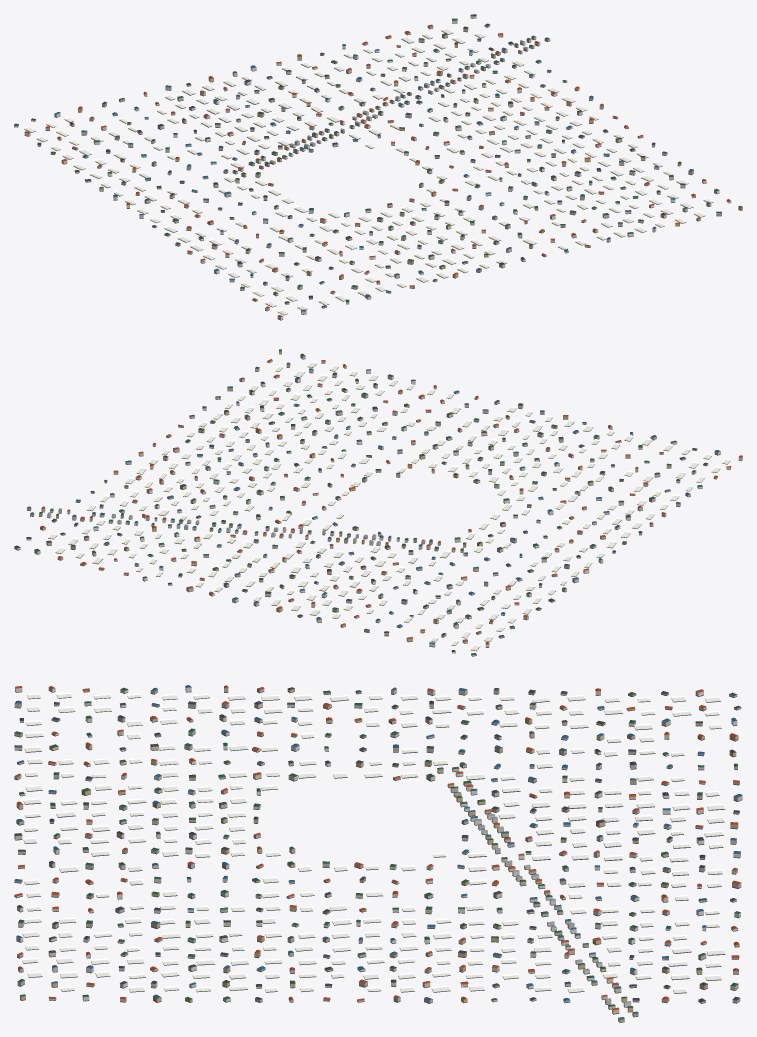
The model's file is buildings_T_W08_N06.glb.
3 views of the same model, one above another, from view 1: azimuth 30°, elevation 25°; view 2: azimuth 150°, elevation 25°; view 3: azimuth 270°, elevation 25° (orthographic). The views are drawn at different scales.
Visible parts, largest first — view 1: T_W08_N06_roofs_agri_greenhouse_arch, T_W08_N06_slope_seating_foundations, T_W08_N06_walls_wall_modern_warm_white, T_W08_N06_walls_wall_french_ochre_villa, T_W08_N06_walls_wall_pastel_sand_gray, T_W08_N06_walls_wall_dalat_cream_stucco, T_W08_N06_roofs_roof_terracotta_gable, T_W08_N06_roofs_roof_pine_green_hip, T_W08_N06_roofs_roof_slate_French_villa_hip, T_W08_N06_roofs_roof_highland_blue_gable; view 2: T_W08_N06_roofs_agri_greenhouse_arch, T_W08_N06_slope_seating_foundations, T_W08_N06_walls_wall_modern_warm_white, T_W08_N06_walls_wall_french_ochre_villa, T_W08_N06_walls_wall_pastel_sand_gray, T_W08_N06_walls_wall_dalat_cream_stucco, T_W08_N06_roofs_roof_terracotta_gable, T_W08_N06_roofs_roof_pine_green_hip, T_W08_N06_roofs_roof_slate_French_villa_hip, T_W08_N06_roofs_roof_highland_blue_gable; view 3: T_W08_N06_roofs_agri_greenhouse_arch, T_W08_N06_slope_seating_foundations, T_W08_N06_walls_wall_french_ochre_villa, T_W08_N06_walls_wall_modern_warm_white, T_W08_N06_walls_wall_pastel_sand_gray, T_W08_N06_walls_wall_dalat_cream_stucco, T_W08_N06_roofs_roof_terracotta_gable, T_W08_N06_roofs_roof_pine_green_hip, T_W08_N06_roofs_roof_slate_French_villa_hip, T_W08_N06_roofs_roof_highland_blue_gable.
Boxes of the visible parts, x1,y1,x2,y2 form: T_W08_N06_roofs_agri_greenhouse_arch: [24, 28, 713, 314]; T_W08_N06_slope_seating_foundations: [14, 17, 742, 320]; T_W08_N06_walls_wall_modern_warm_white: [14, 41, 731, 319]; T_W08_N06_walls_wall_french_ochre_villa: [50, 28, 742, 301]; T_W08_N06_walls_wall_pastel_sand_gray: [37, 25, 721, 308]; T_W08_N06_walls_wall_dalat_cream_stucco: [61, 16, 706, 314]; T_W08_N06_roofs_roof_terracotta_gable: [24, 24, 730, 316]; T_W08_N06_roofs_roof_pine_green_hip: [14, 18, 742, 302]; T_W08_N06_roofs_roof_slate_French_villa_hip: [31, 14, 685, 307]; T_W08_N06_roofs_roof_highland_blue_gable: [55, 35, 710, 311]; T_W08_N06_roofs_agri_greenhouse_arch: [48, 361, 730, 650]; T_W08_N06_slope_seating_foundations: [14, 354, 742, 656]; T_W08_N06_walls_wall_modern_warm_white: [47, 360, 742, 655]; T_W08_N06_walls_wall_french_ochre_villa: [27, 351, 717, 641]; T_W08_N06_walls_wall_pastel_sand_gray: [57, 354, 697, 643]; T_W08_N06_walls_wall_dalat_cream_stucco: [14, 369, 720, 628]; T_W08_N06_roofs_roof_terracotta_gable: [40, 359, 742, 644]; T_W08_N06_roofs_roof_pine_green_hip: [34, 349, 702, 655]; T_W08_N06_roofs_roof_slate_French_villa_hip: [14, 372, 708, 652]; T_W08_N06_roofs_roof_highland_blue_gable: [27, 362, 720, 643]; T_W08_N06_roofs_agri_greenhouse_arch: [22, 692, 725, 993]; T_W08_N06_slope_seating_foundations: [14, 690, 742, 1022]; T_W08_N06_walls_wall_french_ochre_villa: [16, 689, 739, 1022]; T_W08_N06_walls_wall_modern_warm_white: [15, 687, 741, 1007]; T_W08_N06_walls_wall_pastel_sand_gray: [14, 687, 741, 1004]; T_W08_N06_walls_wall_dalat_cream_stucco: [14, 689, 742, 1013]; T_W08_N06_roofs_roof_terracotta_gable: [14, 685, 741, 1010]; T_W08_N06_roofs_roof_pine_green_hip: [14, 687, 740, 1007]; T_W08_N06_roofs_roof_slate_French_villa_hip: [14, 687, 740, 1001]; T_W08_N06_roofs_roof_highland_blue_gable: [14, 685, 742, 1019].
Size of the model in its own units: 1857 by 38.37 by 1755.
